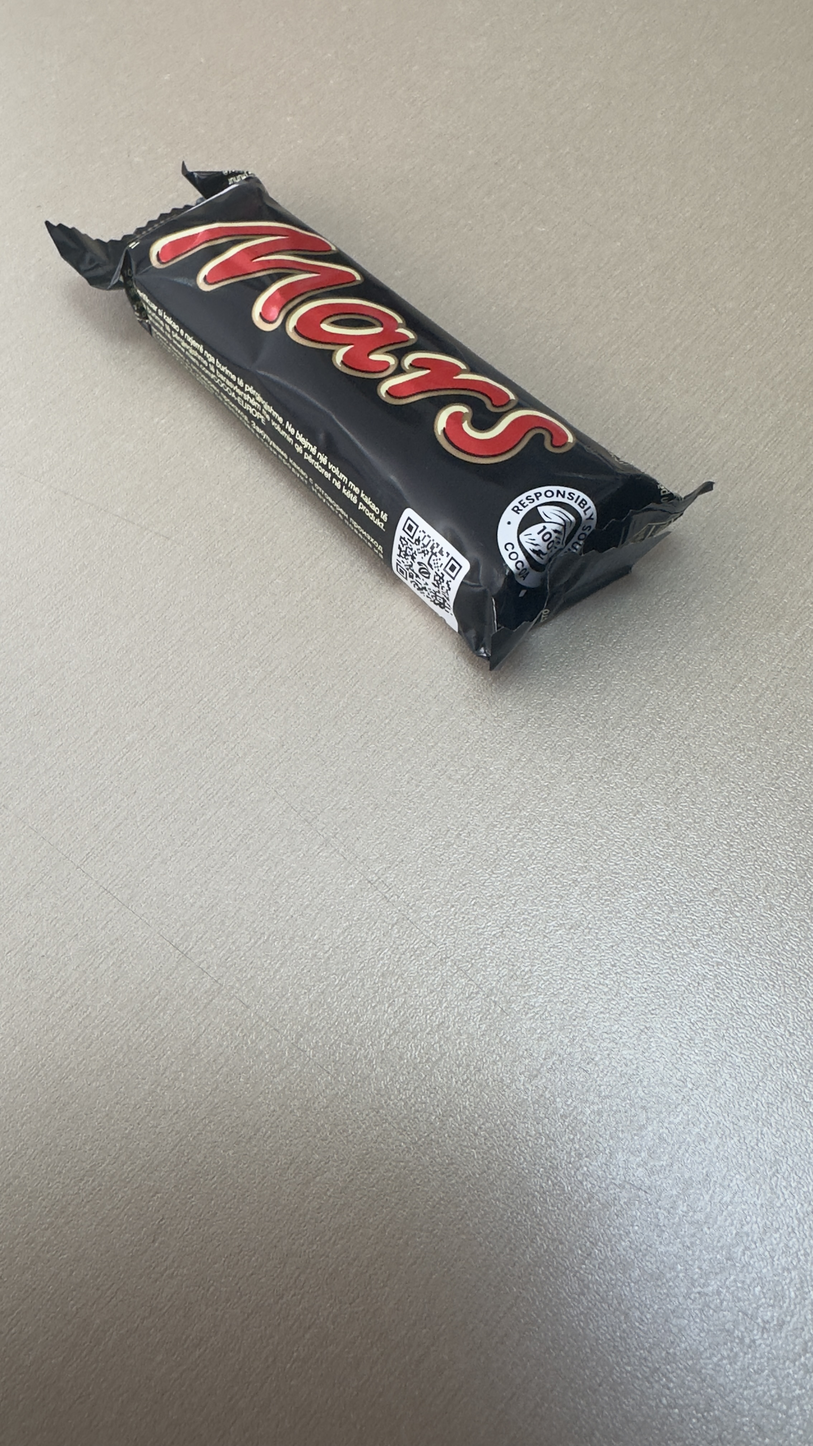MARS: (78, 276, 352, 860)
